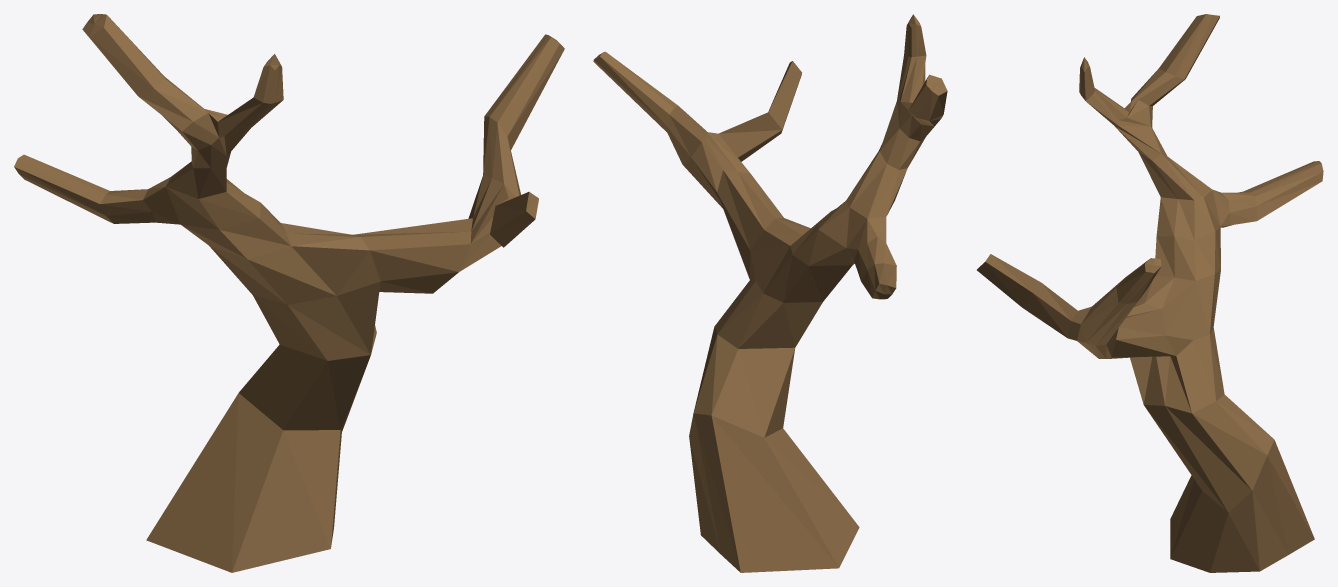
The model's file is tree.glb.
3 views of the same model, side by side, from view 1: azimuth 30°, elevation 25°; view 2: azimuth 150°, elevation 25°; view 3: azimuth 270°, elevation 25° (orthographic). The views are drawn at different scales.
Parts seen in each view (by area): view 1: tree-bryla; view 2: tree-bryla; view 3: tree-bryla.
Boxes of the visible parts, box(x1,y1,x2,y2) form: tree-bryla: box(14, 14, 564, 572); tree-bryla: box(593, 14, 947, 572); tree-bryla: box(977, 14, 1323, 572).
Bounding box in the file's own units: 4.86 × 5.91 × 3.98.
